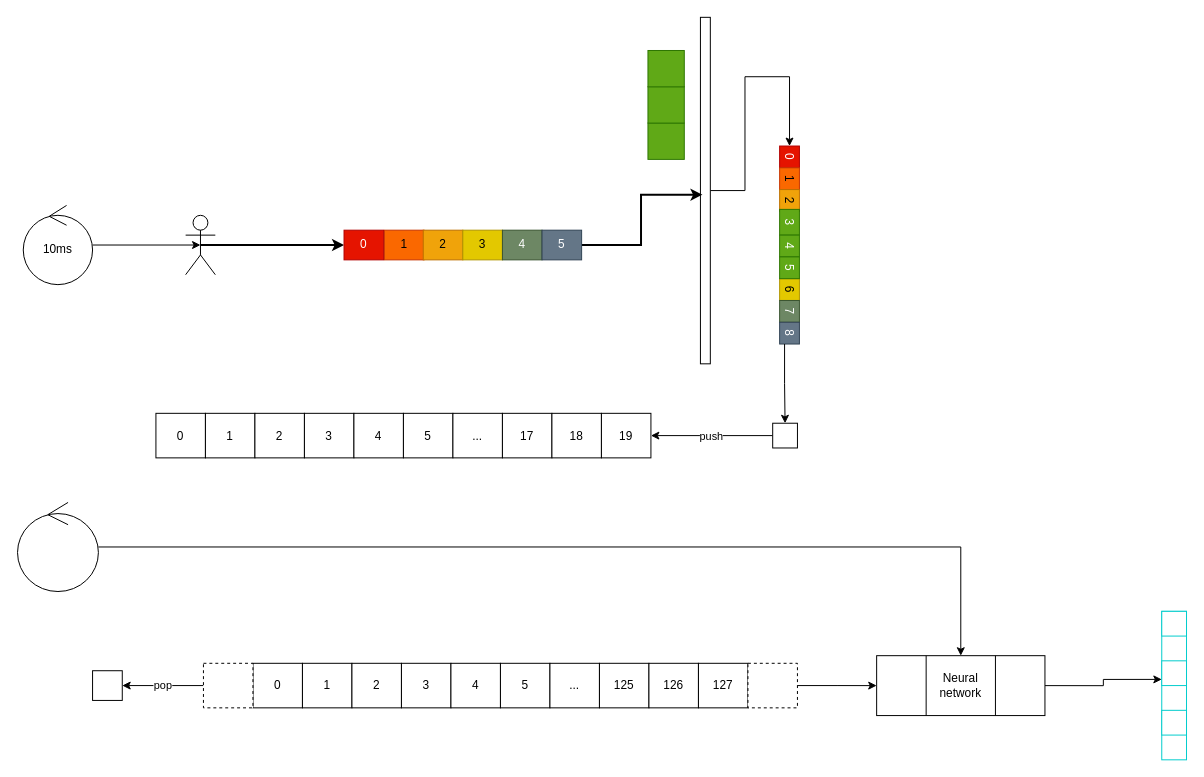
Some shapes in this 1204 by 777 pixel diagram are drawn without their labels. The shapes that lost their labels are listed below. From the top down, each one's centre as x and y in pixels, then its label:
At pixel 200 244: "New sensor value".
At pixel 57 546: "1s".
